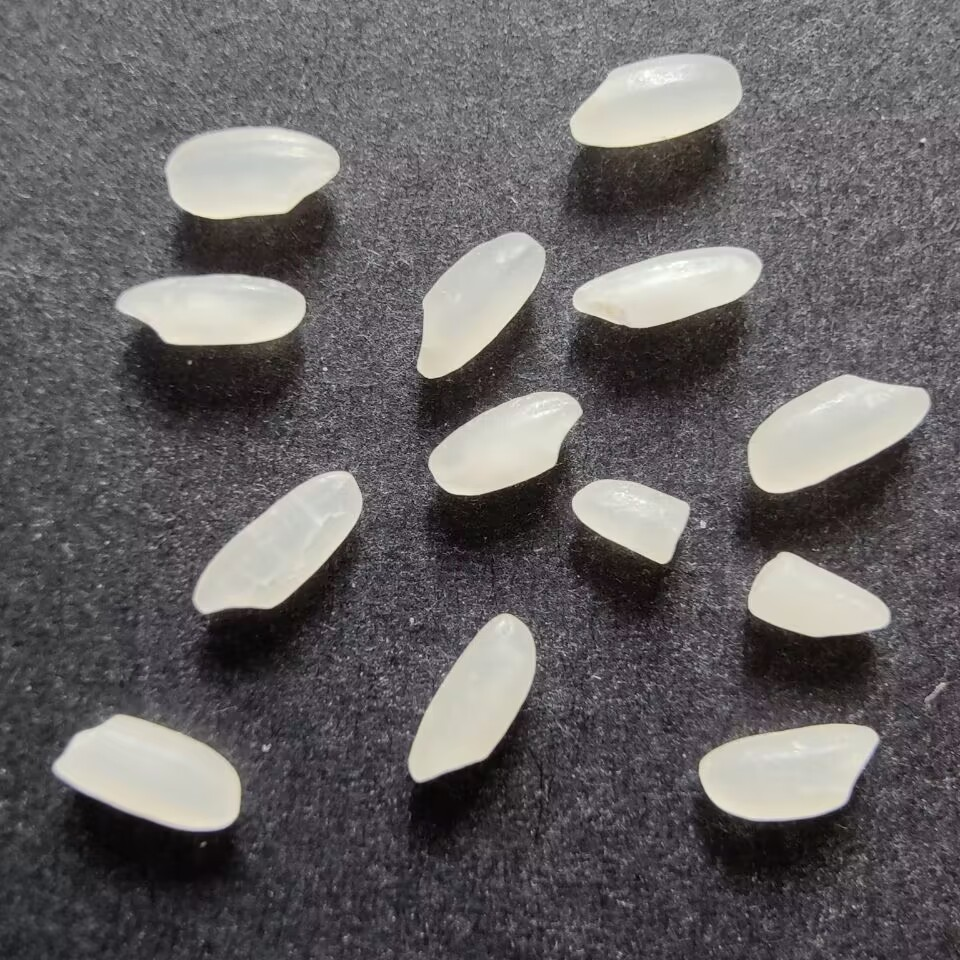broken: (741, 549, 897, 642), (567, 474, 693, 566)
rice: (187, 466, 366, 616), (47, 709, 244, 838), (743, 370, 937, 497), (406, 610, 538, 788), (408, 230, 547, 380), (692, 720, 884, 823), (567, 49, 745, 152), (163, 122, 342, 223), (423, 388, 583, 499), (565, 244, 767, 329), (111, 269, 311, 353)
